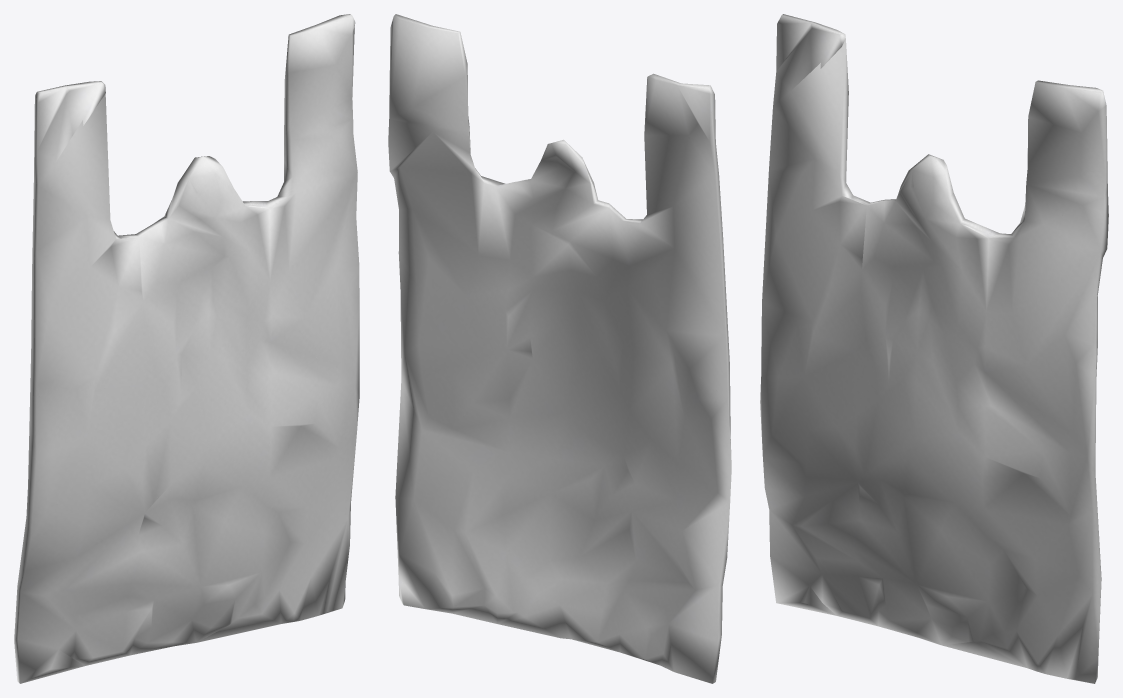
Rendered from bolsaplastico.fbx.
3 renders of one model, left to right at view 1: azimuth 30°, elevation 25°; view 2: azimuth 150°, elevation 25°; view 3: azimuth 330°, elevation 25°, orthographic.
Visible parts, largest first — view 1: bolsaplastico; view 2: bolsaplastico; view 3: bolsaplastico.
Part boxes in pixels (left/top/right/bottom): bolsaplastico: left=14, top=14, right=359, bottom=683; bolsaplastico: left=388, top=14, right=731, bottom=683; bolsaplastico: left=760, top=14, right=1108, bottom=683.
Bounding box in the file's own units: 0.3546 × 0.6 × 0.0544.
Materials: 1 (1 with a texture image).
